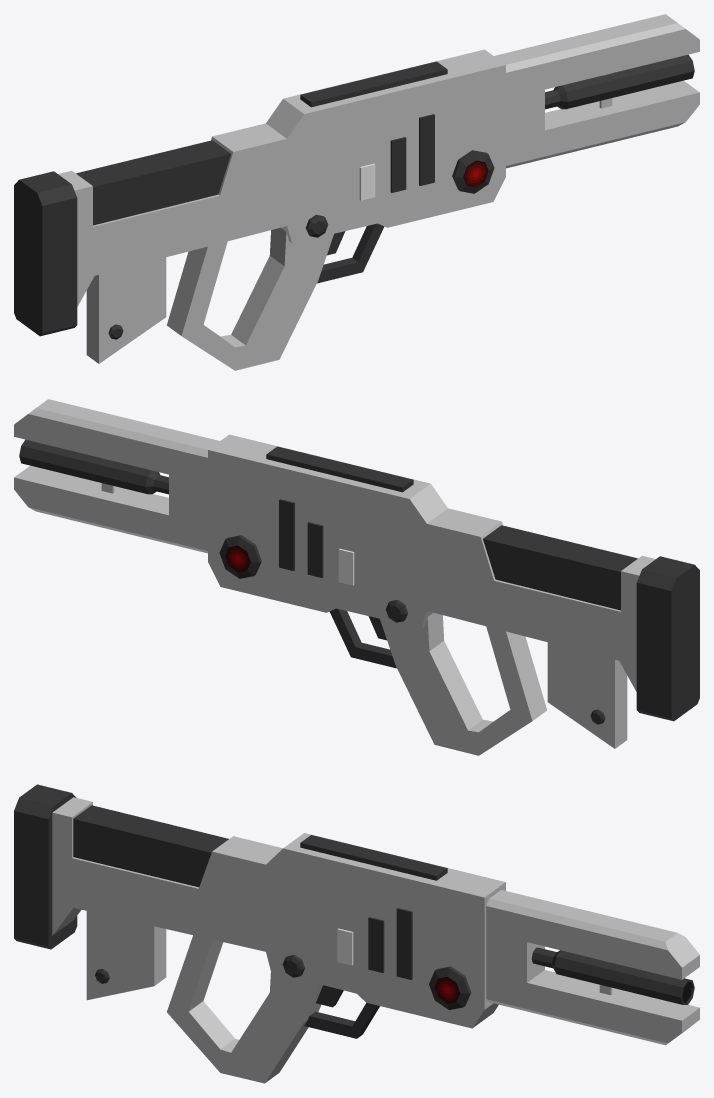
File: Rifle_F_V4.FBX
3 renders of one model, top to bottom at view 1: azimuth 30°, elevation 25°; view 2: azimuth 150°, elevation 25°; view 3: azimuth 330°, elevation 25°, orthographic.
Visible parts, largest first — view 1: Rifle_F_V4, Magazine; view 2: Rifle_F_V4, Magazine; view 3: Rifle_F_V4, Magazine.
Part boxes in pixels (box(x1,y1,x2,y2)): Rifle_F_V4: box(14, 14, 699, 370); Magazine: box(86, 257, 166, 363); Rifle_F_V4: box(14, 399, 699, 755); Magazine: box(547, 642, 627, 748); Rifle_F_V4: box(14, 784, 699, 1083); Magazine: box(86, 911, 166, 1000).
Size of the model in its own units: 382 by 136 by 28.39.
